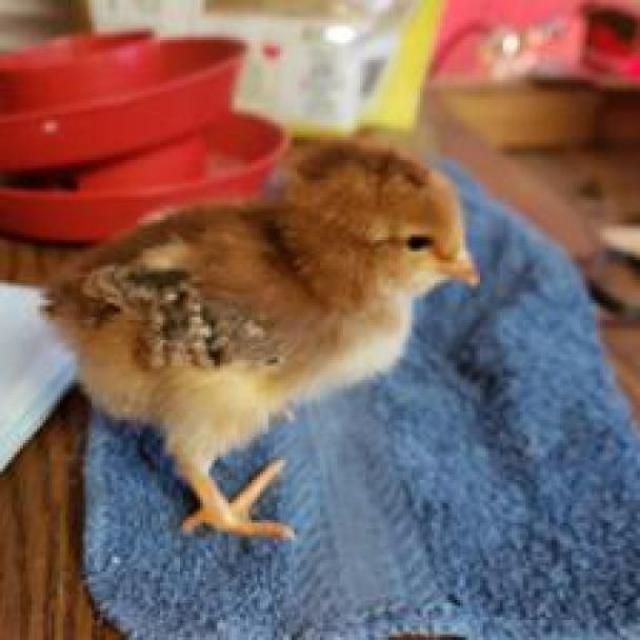Chicken: (47, 139, 501, 557)
